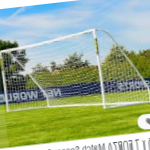goals: (2, 27, 150, 113)
